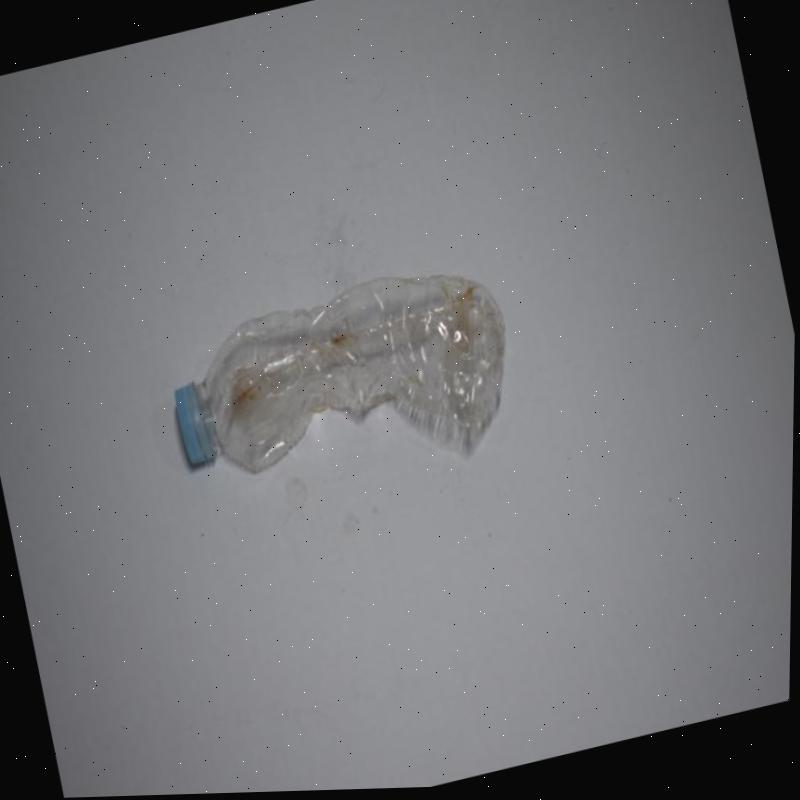botella: (152, 238, 530, 523)
